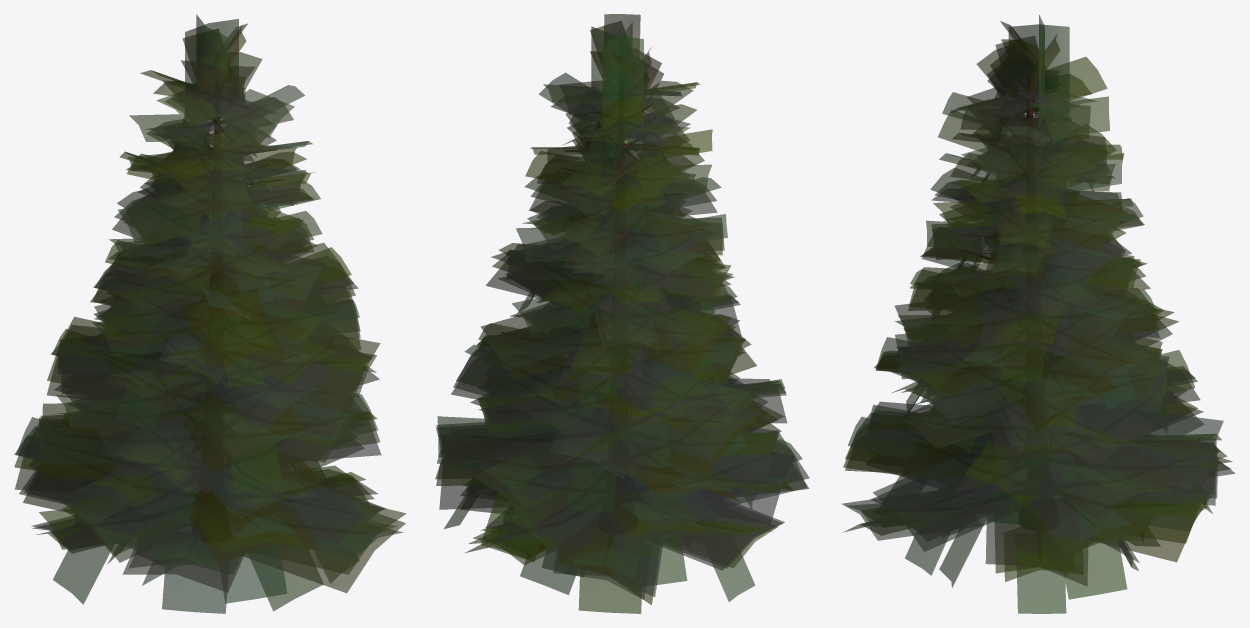
File: veg_spruce_c.glb
The picture shows the model from 3 angles, left to right: view 1: azimuth 30°, elevation 25°; view 2: azimuth 150°, elevation 25°; view 3: azimuth 270°, elevation 25°; orthographic projection. The views are drawn at different scales.
Parts seen in each view (by area): view 1: veg_spruce_c_LOD0; view 2: veg_spruce_c_LOD0; view 3: veg_spruce_c_LOD0.
Boxes of the visible parts, x1=… form: veg_spruce_c_LOD0: x1=14, y1=14, x2=406, y2=613; veg_spruce_c_LOD0: x1=435, y1=14, x2=809, y2=613; veg_spruce_c_LOD0: x1=842, y1=15, x2=1234, y2=613.
Size of what is drawn, in the model's own units: 1.45 by 2.4 by 1.58.
